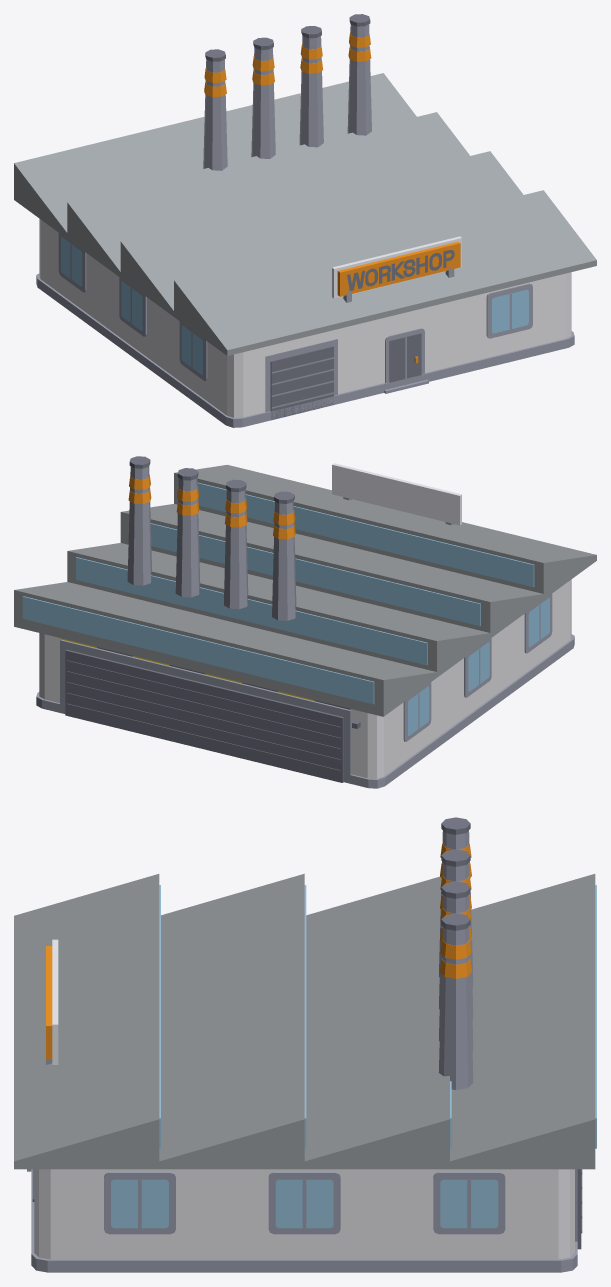
The model's file is workshop-2x2-t4-tone-a.glb.
The picture shows the model from 3 angles, top to bottom: view 1: azimuth 30°, elevation 25°; view 2: azimuth 150°, elevation 25°; view 3: azimuth 270°, elevation 25°; orthographic projection. The views are drawn at different scales.
Parts seen in each view (by area): view 1: workshop-2x2-t4-tone-a; view 2: workshop-2x2-t4-tone-a; view 3: workshop-2x2-t4-tone-a.
Boxes of the visible parts, bbox=[...] form: workshop-2x2-t4-tone-a: bbox=[14, 14, 596, 427]; workshop-2x2-t4-tone-a: bbox=[14, 456, 596, 788]; workshop-2x2-t4-tone-a: bbox=[14, 817, 596, 1272].
Bounding box in the file's own units: 2 × 1.18 × 2.01.
1 material, 1 textured.
